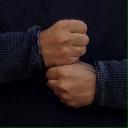hand: (39, 19, 89, 67), (45, 63, 97, 107)
